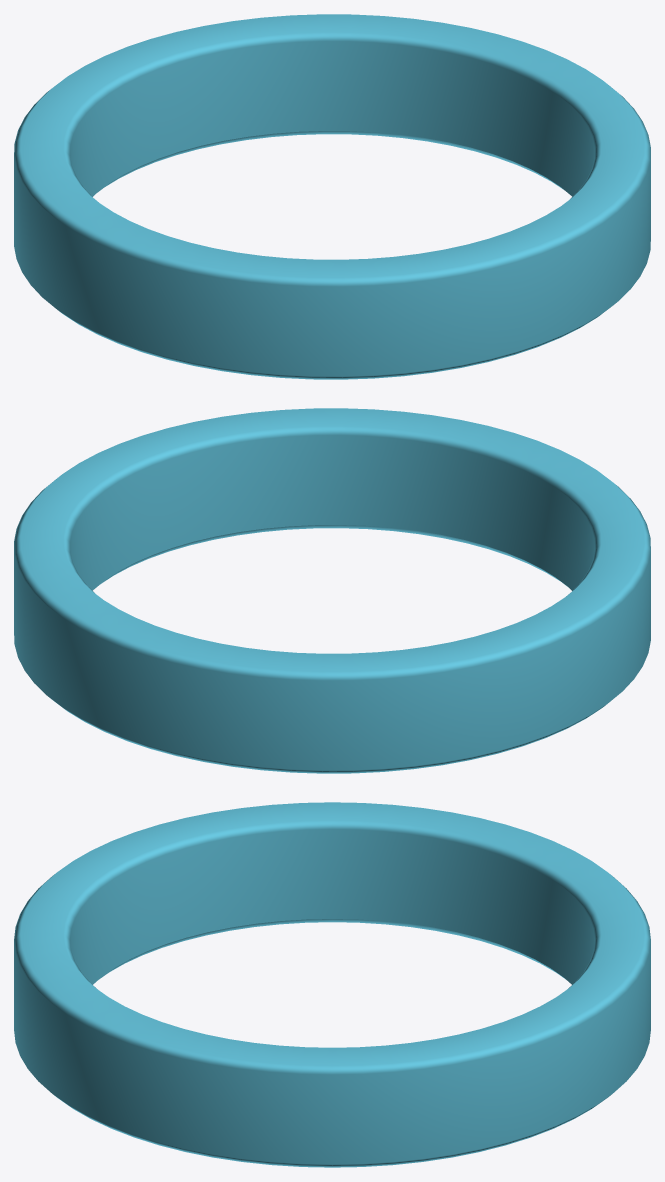
3 views of the same model, one above another, from view 1: azimuth 30°, elevation 25°; view 2: azimuth 150°, elevation 25°; view 3: azimuth 270°, elevation 25° (orthographic).
Visible parts, largest first — view 1: seal_body; view 2: seal_body; view 3: seal_body.
Boxes of the visible parts, x1,y1,x2,y2 form: seal_body: (14,14,650,379); seal_body: (14,408,650,773); seal_body: (14,802,650,1167).
Size of the model in its own units: 0.054 by 0.00952 by 0.054.
